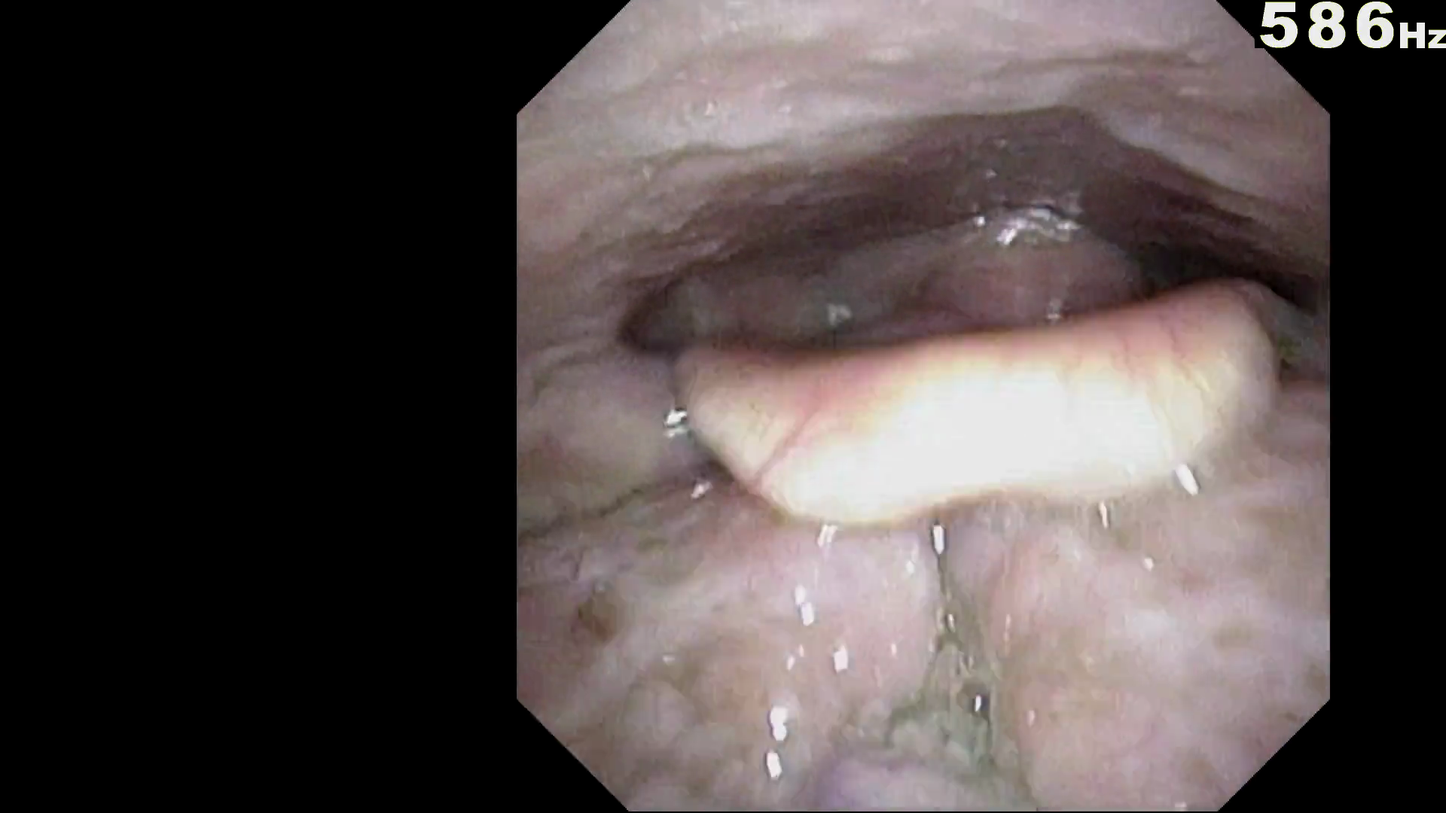epiglottis: (683, 283, 1271, 526)
